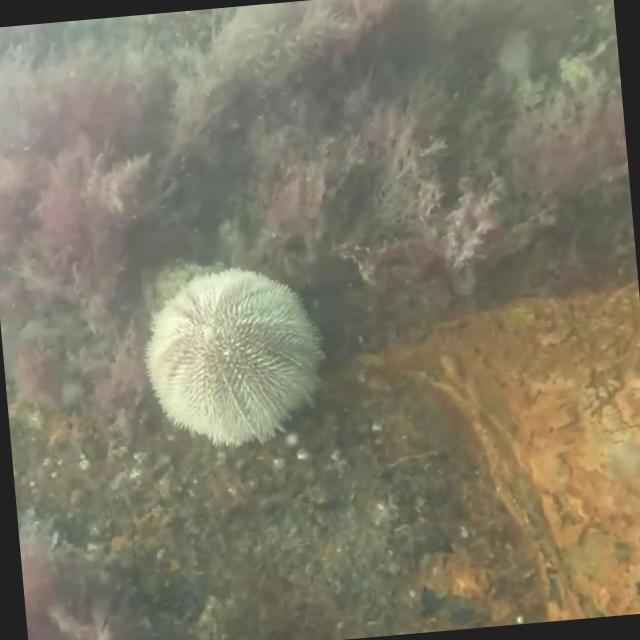Deniz Kestanesi: (136, 260, 330, 454)
